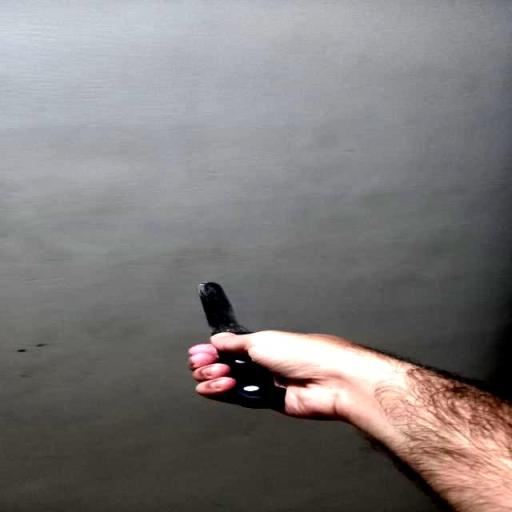knife: (202, 282, 288, 409)
